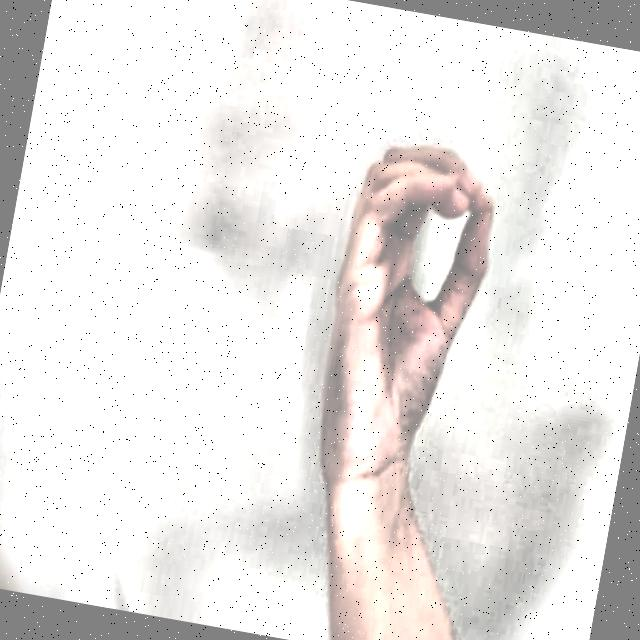O: (282, 91, 532, 512)
